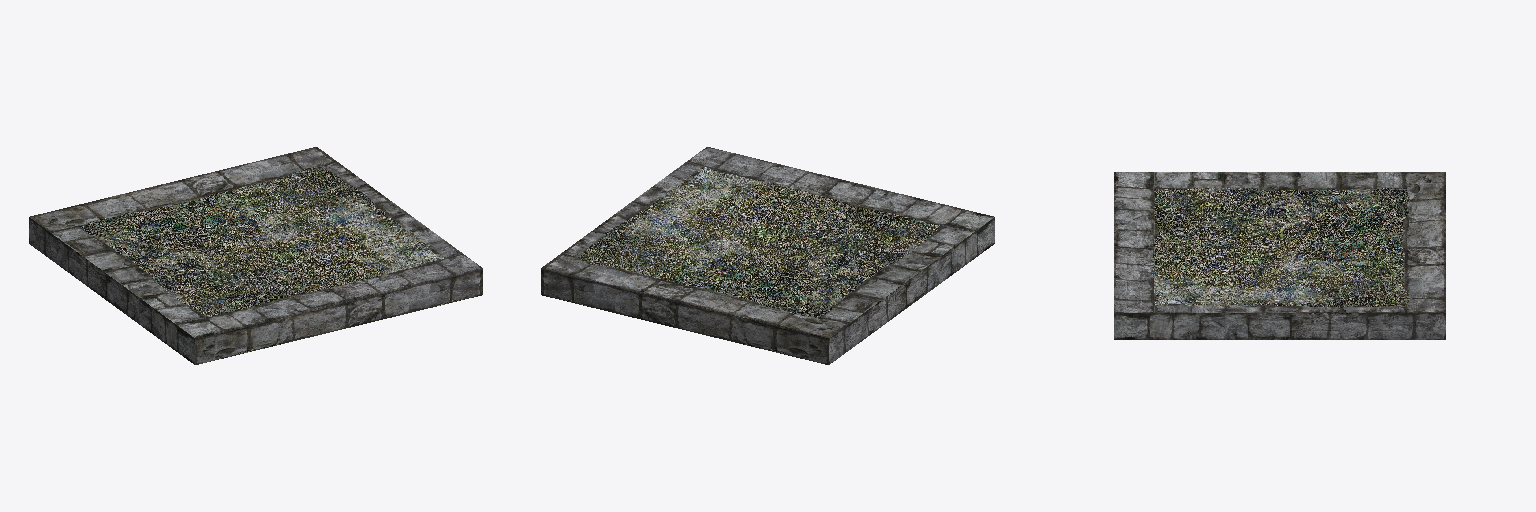
3 views of the same model, side by side, from view 1: azimuth 30°, elevation 25°; view 2: azimuth 150°, elevation 25°; view 3: azimuth 270°, elevation 25° (orthographic).
Visible parts, largest first — view 1: treeHole_1_v5; view 2: treeHole_1_v5; view 3: treeHole_1_v5.
Boxes of the visible parts, box(x1,y1,x2,y2) form: treeHole_1_v5: box(29, 147, 482, 364); treeHole_1_v5: box(541, 147, 994, 364); treeHole_1_v5: box(1114, 172, 1445, 339).
Bounding box in the file's own units: 0.8 × 0.0715 × 0.8.
Materials: 1 (1 with a texture image).